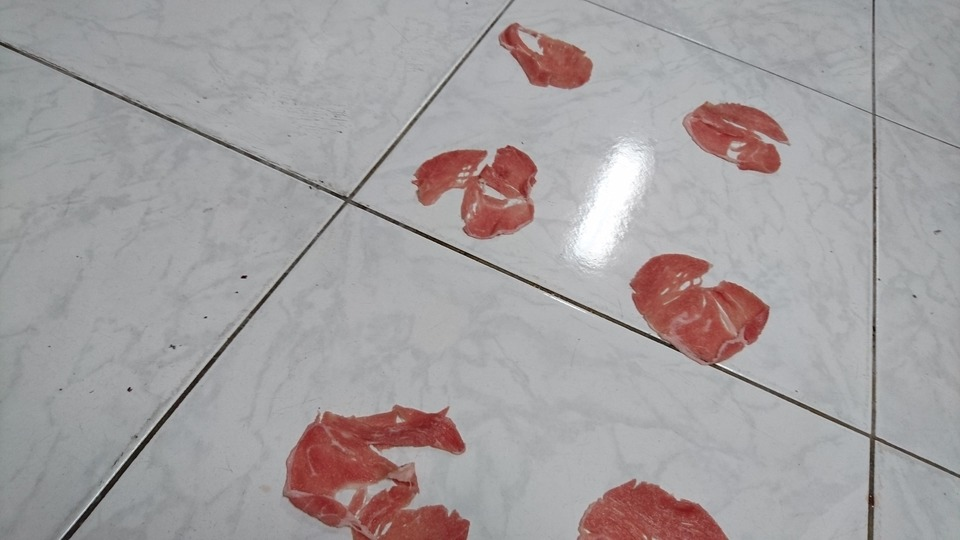restructured meat: (282, 365, 481, 540), (610, 226, 776, 378), (398, 132, 560, 246), (554, 479, 728, 540), (684, 93, 782, 183), (499, 12, 599, 95)
